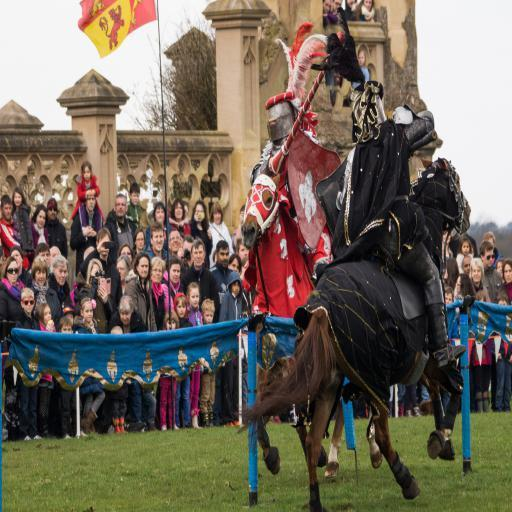horse: (232, 156, 473, 512), (241, 170, 385, 482)
